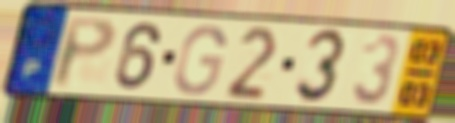2: (223, 24, 282, 104)
3: (290, 27, 351, 107), (352, 32, 400, 109)
6: (112, 20, 163, 93)
G: (171, 22, 229, 98)
P: (51, 15, 120, 92)
